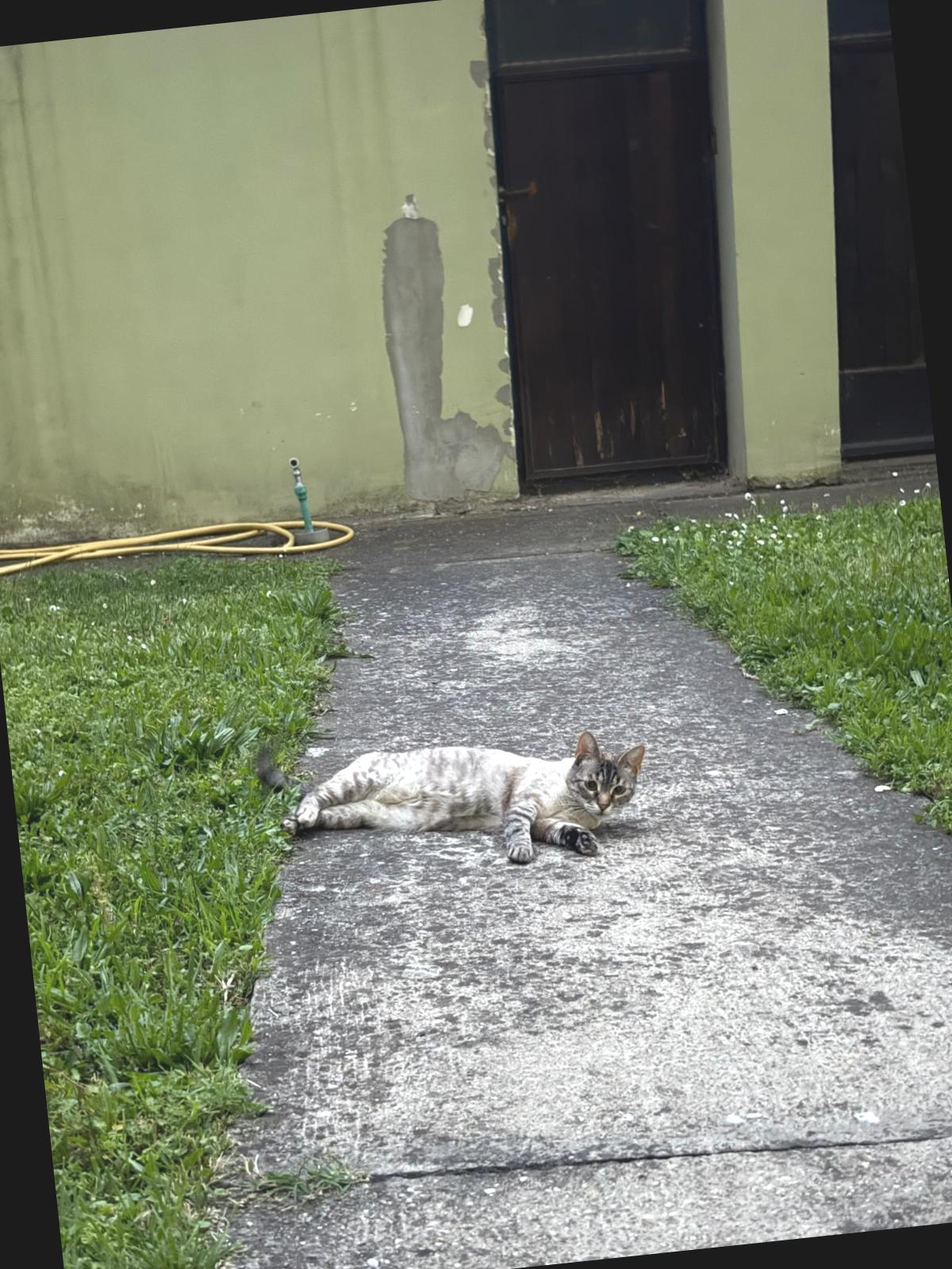macka: (274, 721, 657, 889)
